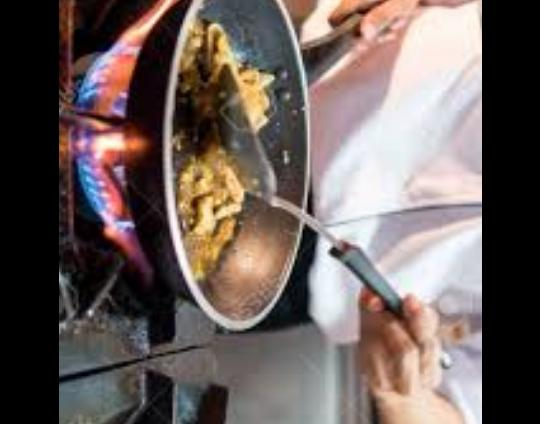controlled_fire: (66, 0, 188, 274)
